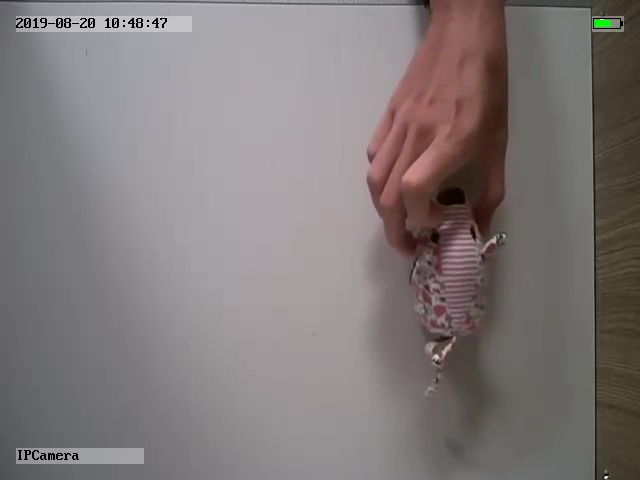pig: (411, 186, 509, 405)
